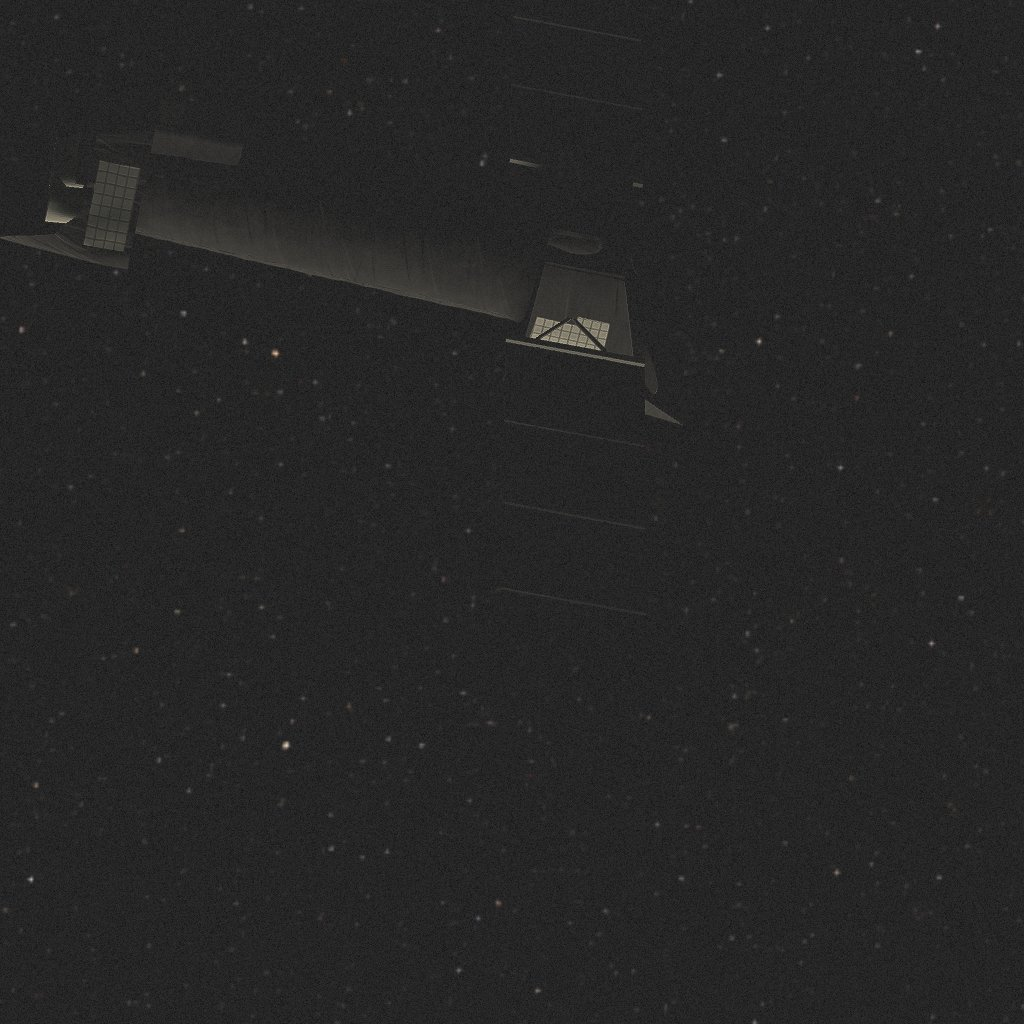xmm_newton: (0, 0, 684, 615)
